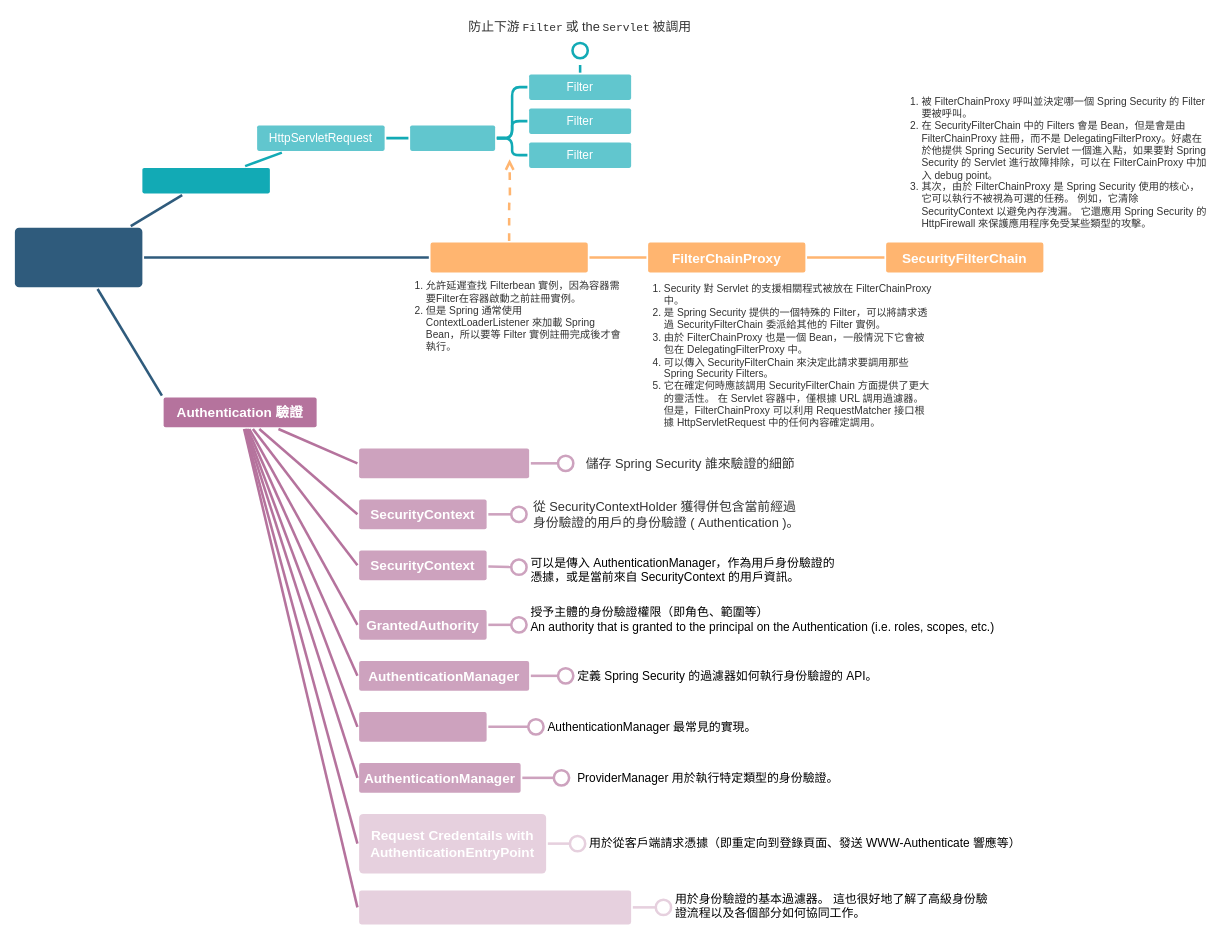
The diagram is 1222 pixels wide and 943 high, and some of its shapes have lost their labels. Each missing label, with the centre of its shape:
"AbstractAuthenticationProcessingFilter" belongs at pixel 495 907.
"DelegatingFilterProxy" belongs at pixel 508 257.
"Filter Chain" belongs at pixel 452 137.
"ProviderManager" belongs at pixel 422 726.
"SecurityContextHolder" belongs at pixel 444 463.
"Servlet" belongs at pixel 205 180.
"Spring Security" belongs at pixel 78 257.
